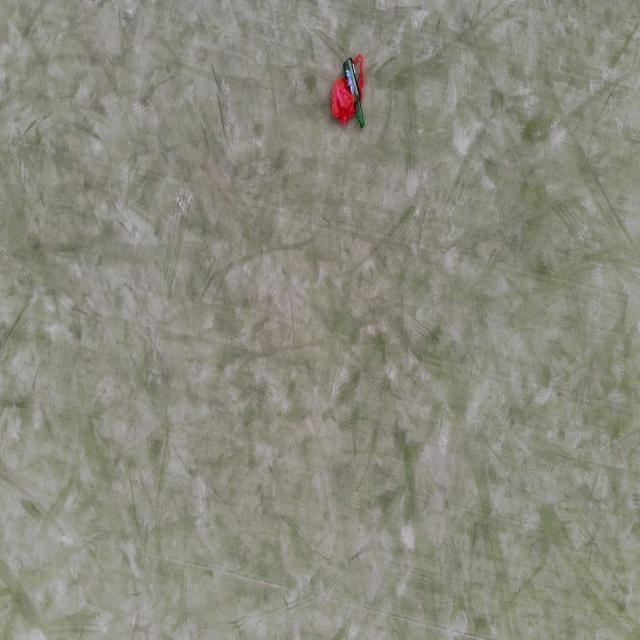rubbish: (331, 51, 364, 127), (343, 56, 366, 129)
